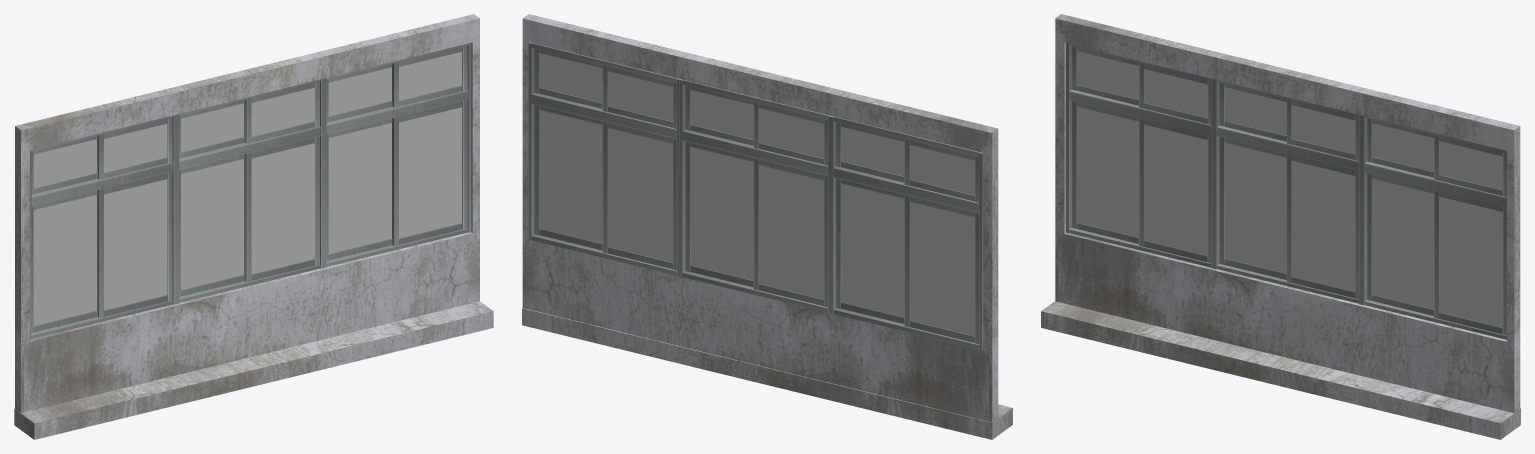
File: shop_f_null01a.fbx
3 views of the same model, side by side, from view 1: azimuth 30°, elevation 25°; view 2: azimuth 150°, elevation 25°; view 3: azimuth 330°, elevation 25° (orthographic). The views are drawn at different scales.
Parts seen in each view (by area): view 1: shop_f_null01a; view 2: shop_f_null01a; view 3: shop_f_null01a.
Boxes of the visible parts, left/top/right/bottom form: shop_f_null01a: left=14, top=14, right=493, bottom=439; shop_f_null01a: left=522, top=14, right=1012, bottom=439; shop_f_null01a: left=1041, top=14, right=1520, bottom=439.
Bounding box in the file's own units: 5.4 × 3.37 × 0.4234.
